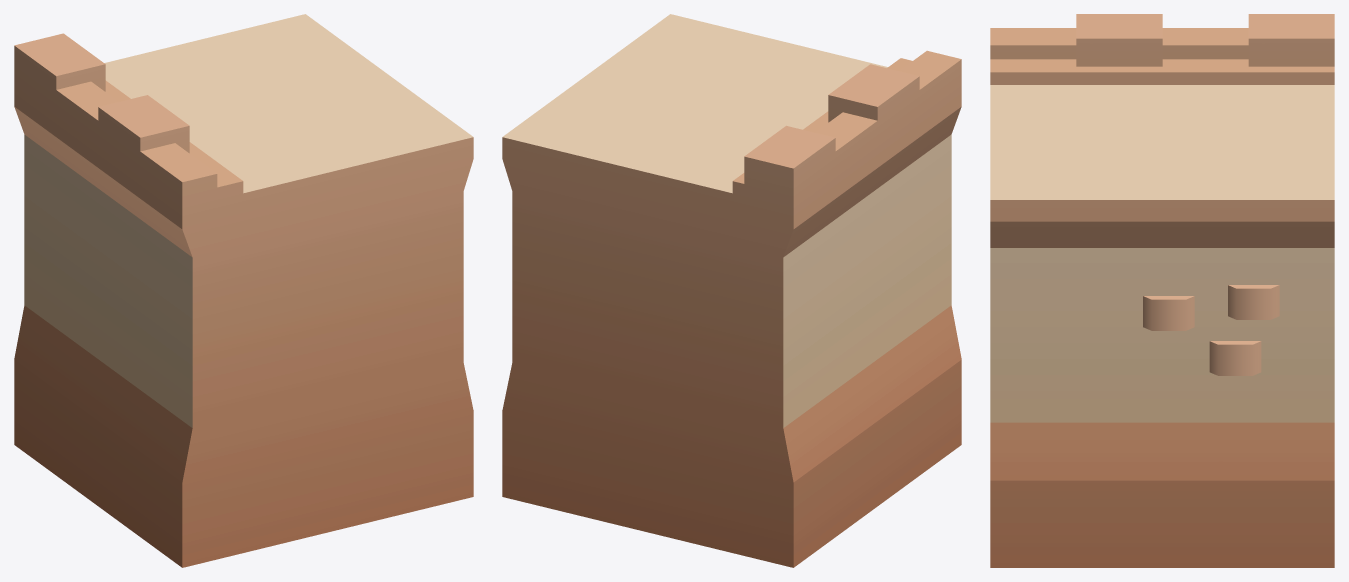
The model's file is wall-half.glb.
3 views of the same model, side by side, from view 1: azimuth 30°, elevation 25°; view 2: azimuth 150°, elevation 25°; view 3: azimuth 270°, elevation 25° (orthographic). The views are drawn at different scales.
Parts seen in each view (by area): view 1: wall-half; view 2: wall-half; view 3: wall-half.
Boxes of the visible parts, <box> form: wall-half: <box>14,14,473,567</box>; wall-half: <box>502,14,961,567</box>; wall-half: <box>990,14,1334,567</box>.
Bounding box in the file's own units: 1 × 1.31 × 1.
Materials: 1 (1 with a texture image).
